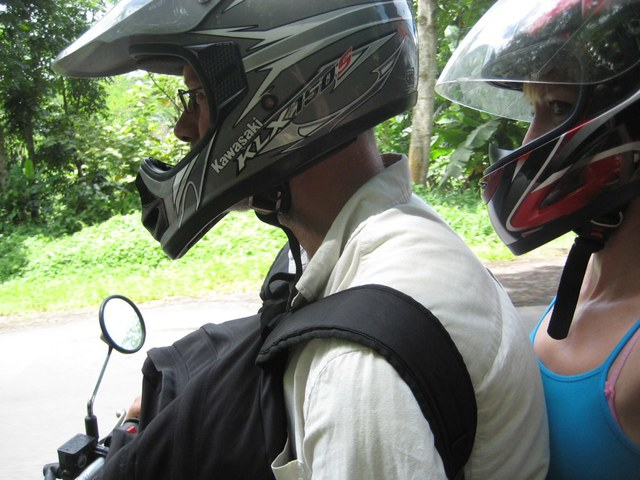helmet: (77, 3, 419, 194), (447, 6, 640, 220)
